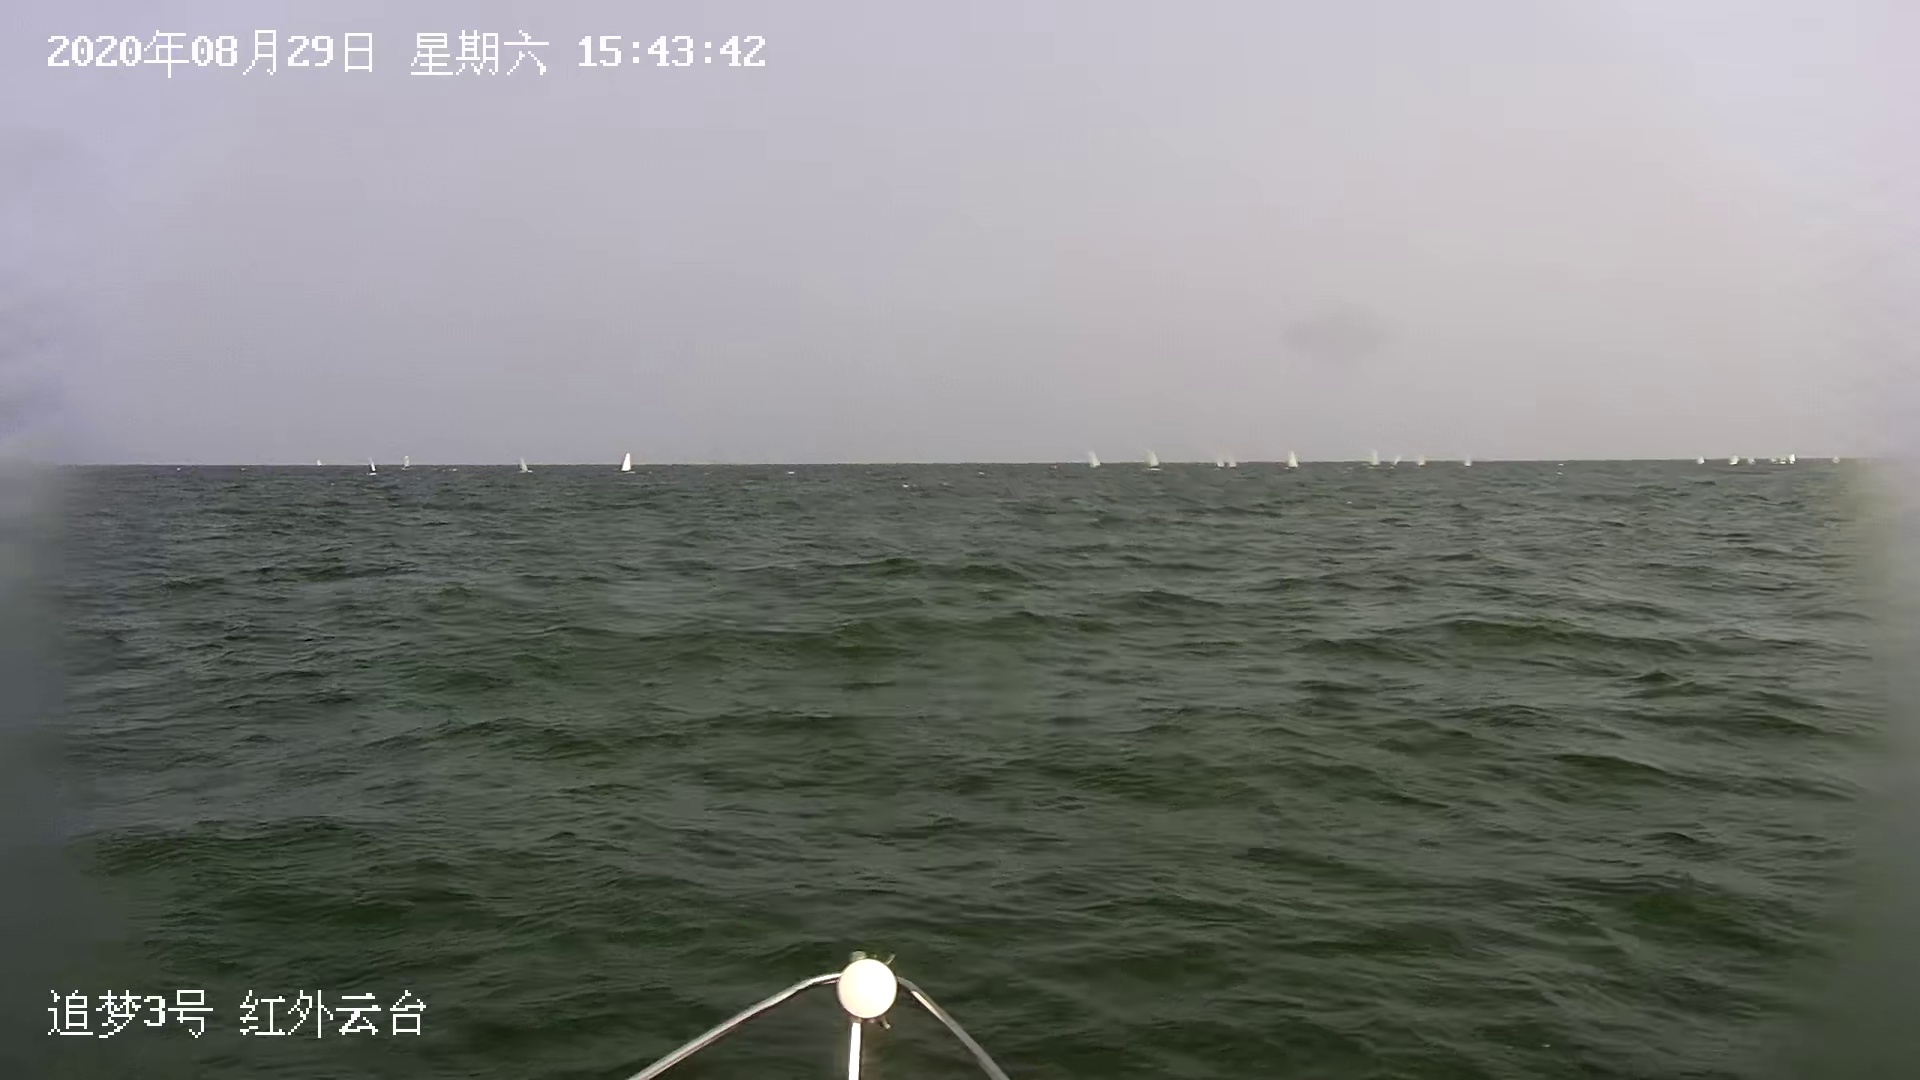barrier: (1141, 452, 1164, 469), (616, 454, 637, 472), (1225, 448, 1241, 469), (1088, 448, 1105, 467), (516, 452, 531, 472), (1284, 448, 1298, 469), (1367, 448, 1383, 465), (1211, 454, 1225, 469), (1418, 448, 1429, 465), (1461, 454, 1477, 465), (404, 452, 414, 469), (1692, 452, 1708, 463), (367, 462, 378, 472), (1788, 454, 1797, 464), (1830, 454, 1841, 463), (309, 458, 326, 463), (1729, 454, 1738, 463), (1779, 454, 1785, 463), (1747, 456, 1756, 463), (1771, 455, 1778, 463)
this: (613, 953, 1025, 1079)
